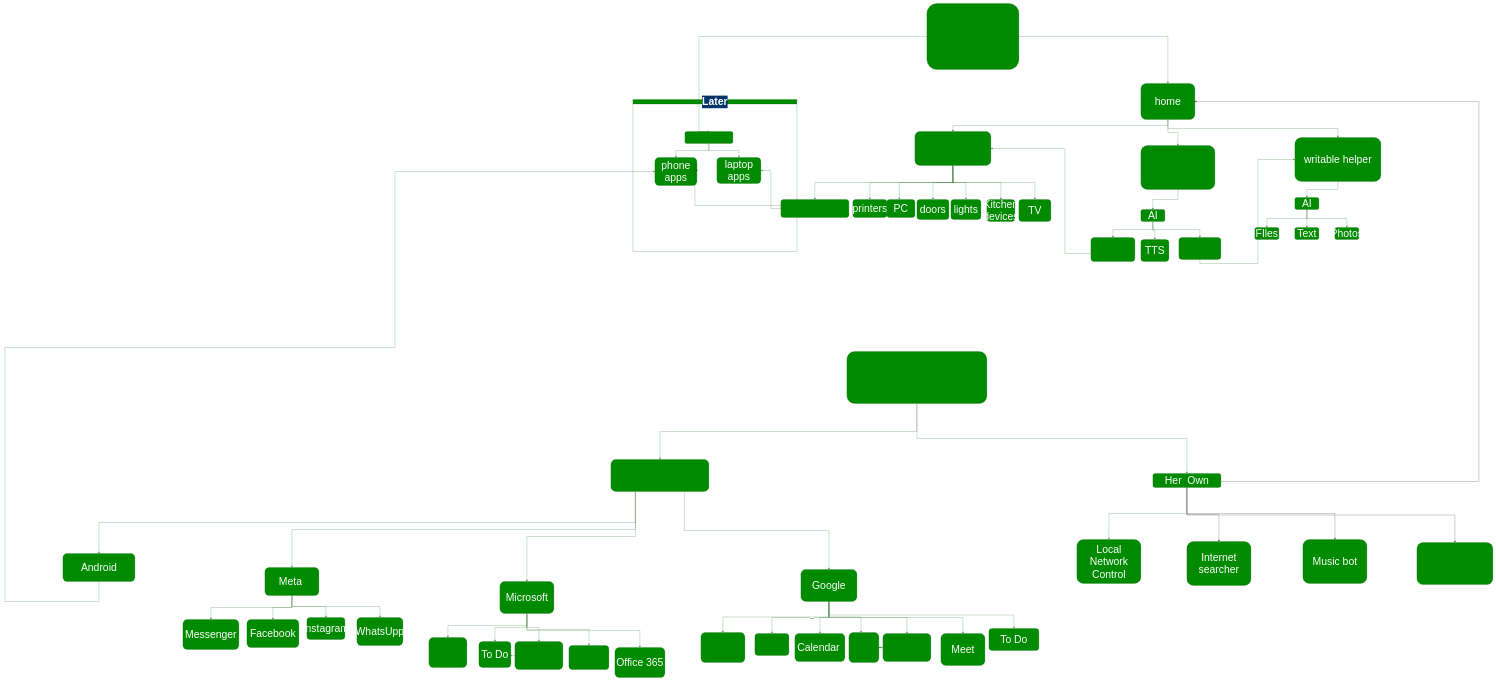
The diagram is 1496 pixels wide and 681 high, and some of its shapes have lost their labels. Each missing label, with the centre of its shape:
Connected to other: (660,475)
Control actions: (1113,249)
control home devices: (953,148)
Drive: (772,644)
Features Of KIKI: (917,377)
Gmail: (864,647)
KIKI: (973,36)
Maps: (907,647)
OneDrive: (589,657)
Other Network Devices: (815,208)
OutLook: (448,652)
portable: (709,137)
talkative helper: (1178,167)
Teams: (539,655)
Translate: (723,647)
User Shedule of day: (1455,563)
Writable actions: (1200,248)
